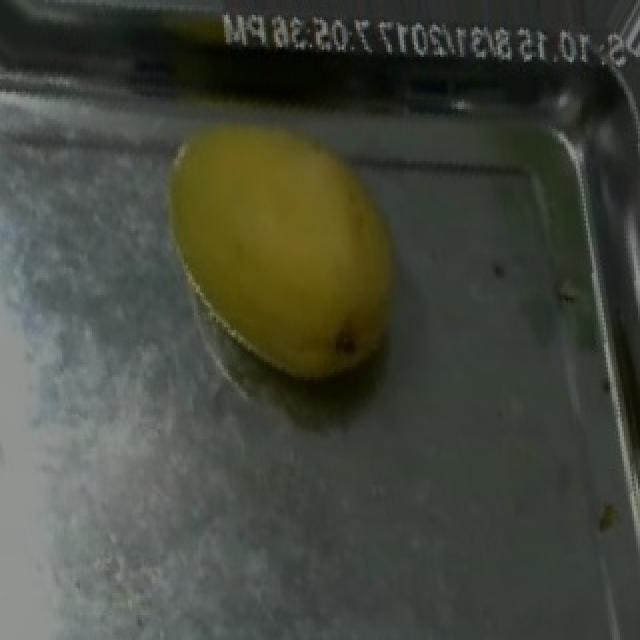fruit: (134, 74, 456, 407)
